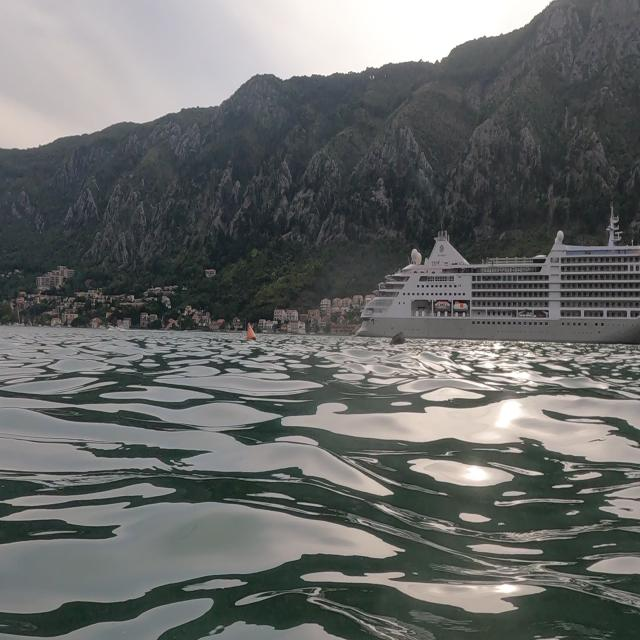boat: (353, 201, 638, 346)
buoy: (384, 327, 408, 353), (246, 316, 261, 346)
